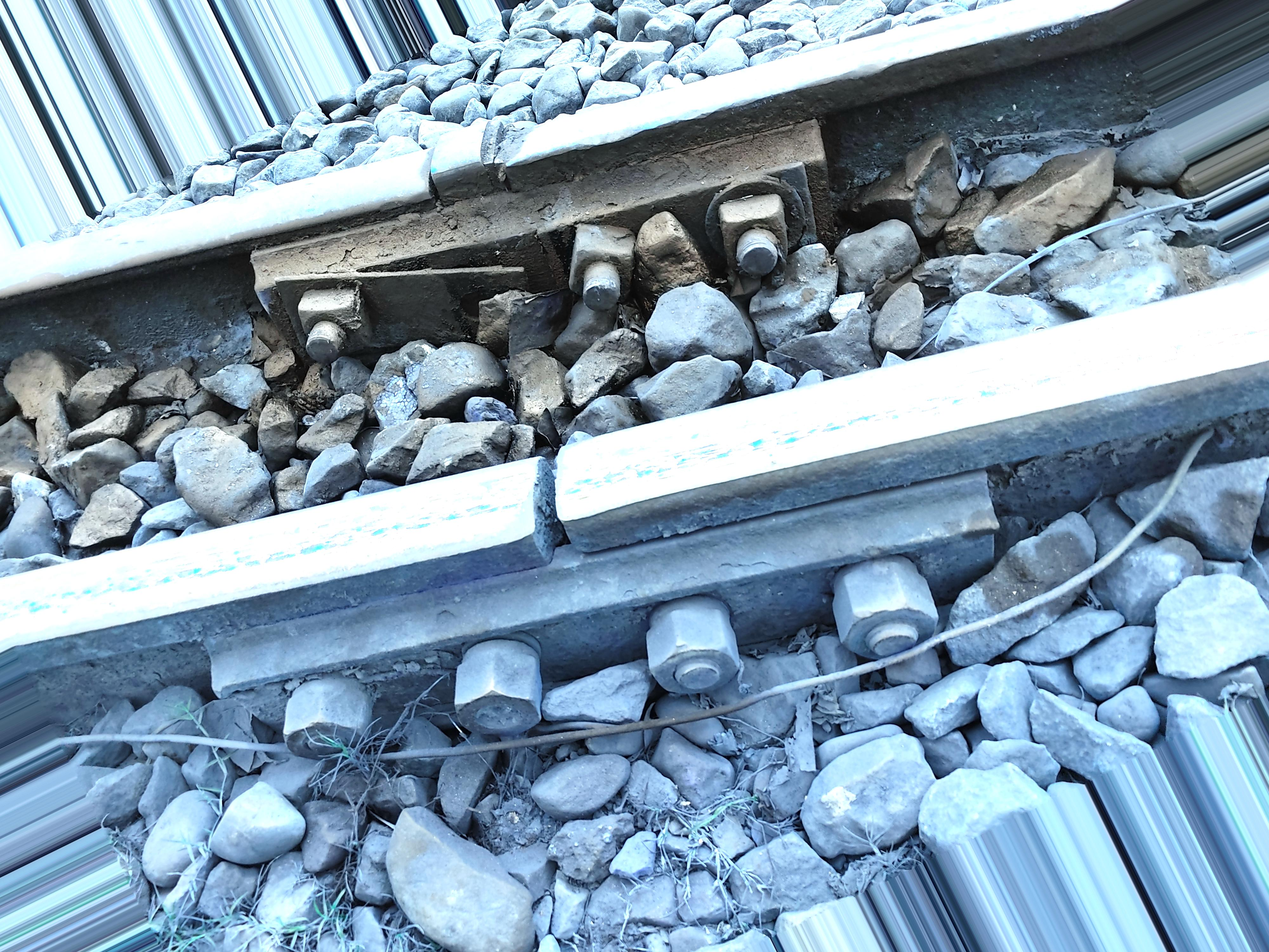tracks_fault: (270, 89, 813, 363)
